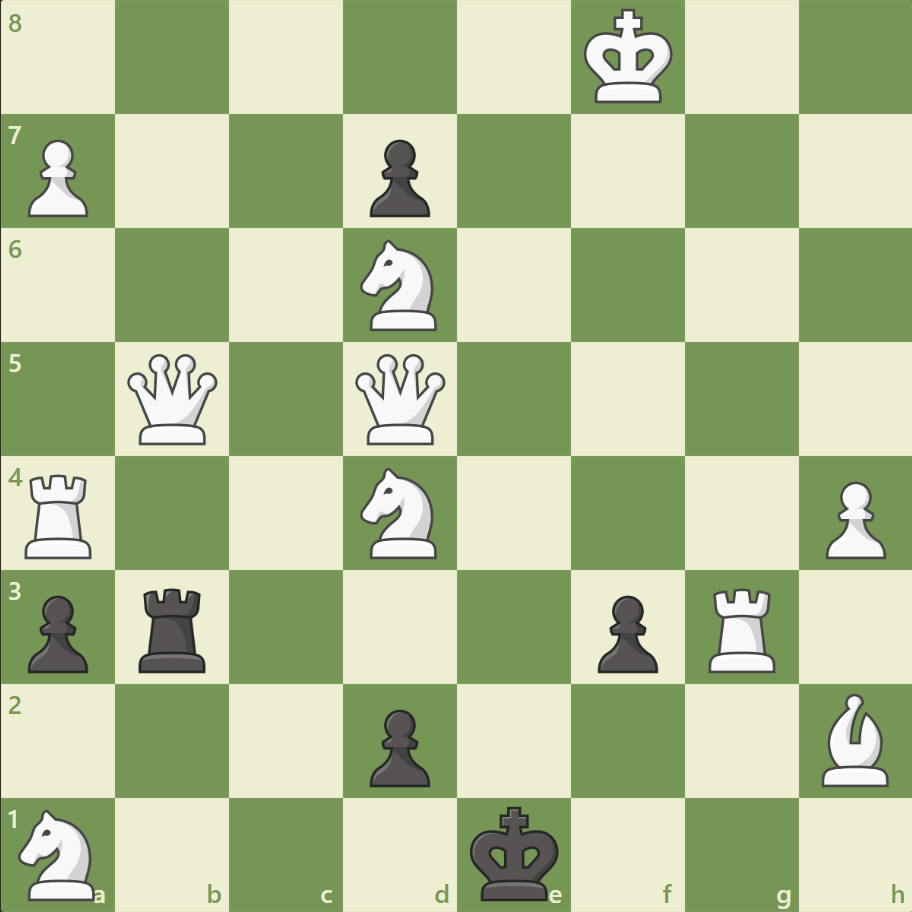B: (812, 687, 896, 790)
K: (579, 4, 679, 112)
N: (351, 234, 449, 337), (351, 461, 449, 564), (11, 802, 108, 904)
P: (20, 132, 95, 223), (815, 473, 889, 564)
Q: (124, 349, 223, 449), (351, 349, 450, 449)
R: (19, 466, 102, 563), (700, 579, 783, 676)
k: (465, 798, 565, 906)
p: (20, 586, 95, 677), (361, 132, 435, 223), (588, 586, 662, 677), (361, 700, 435, 791)
r: (133, 579, 215, 676)
